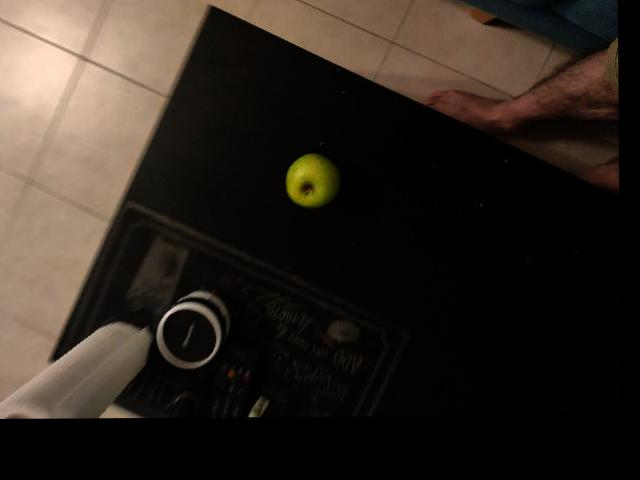apple: (186, 32, 271, 115)
